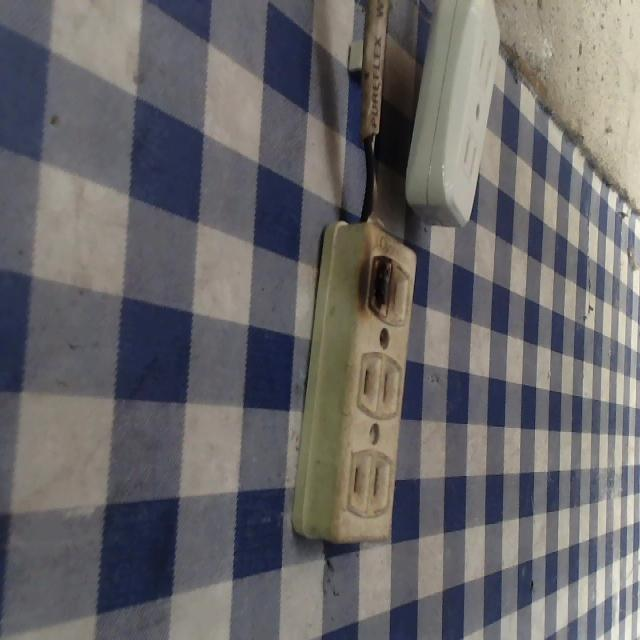-: (362, 248, 396, 324)
